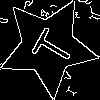T: (23, 21, 77, 71)
